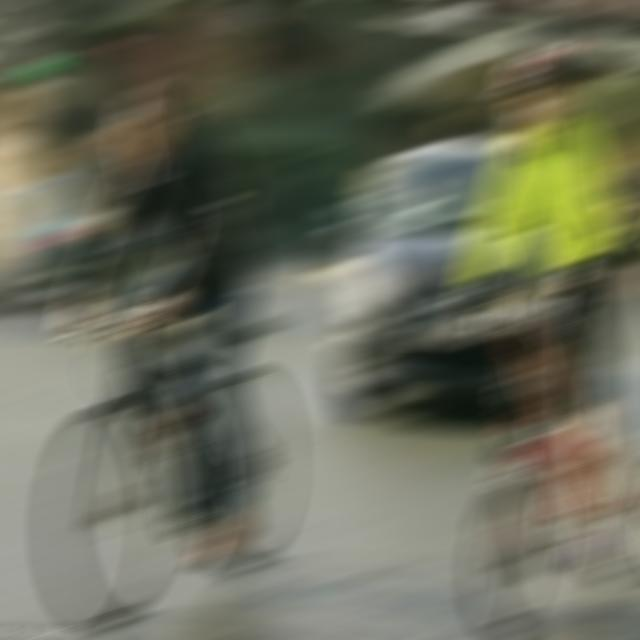With Helmet: (496, 41, 577, 138)
Without Helmet: (102, 69, 186, 174)
